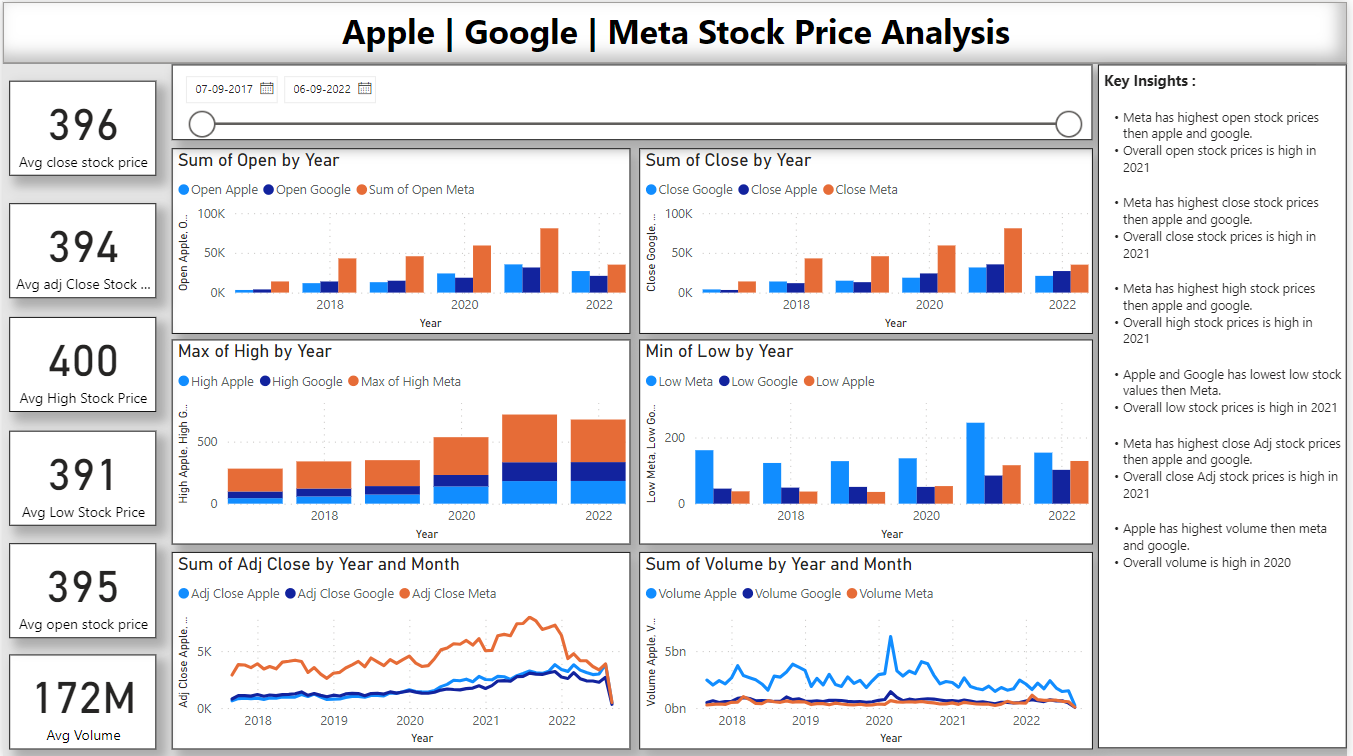

This screenshot's page, from the dashboard's own definition file:
{"tool":"powerbi","page":{"name":"Page 1","canvas":[1280,720],"ordinal":0},"visuals":[{"type":"clusteredColumnChart","title":"Sum of Open by Year","fields":{"Y":["Sum(AAPL.Open Apple)","Sum(GOOG.Open Google)","Sum(META.Open Meta)"],"Category":["GOOG.Date.Variation.Date Hierarchy.Year"]},"box":[161.1,138.9,436.7,176.7],"z":0},{"type":"clusteredColumnChart","title":"Sum of Close by Year","fields":{"Y":["Sum(GOOG.Close Google)","Sum(AAPL.Close Apple)","Sum(META.Close Meta)"],"Category":["GOOG.Date.Variation.Date Hierarchy.Year"]},"box":[605.6,138.9,432.2,176.7],"z":1000},{"type":"columnChart","title":"Max of High by Year","fields":{"Category":["GOOG.Date.Variation.Date Hierarchy.Year"],"Y":["Max(AAPL.High Apple)","Max(GOOG.High Google)","Max(META.High Meta)"]},"box":[161.1,321.1,436.7,195.6],"z":2000},{"type":"clusteredColumnChart","title":"Min of Low by Year","fields":{"Category":["GOOG.Date.Variation.Date Hierarchy.Year"],"Y":["Min(META.Low Meta)","Min(GOOG.Low Google)","Min(AAPL.Low Apple)"]},"box":[605.6,321.1,432.2,195.6],"z":3000},{"type":"lineChart","title":"Sum of Adj Close by Year and Month","fields":{"Y":["Sum(AAPL.Adj Close Apple)","Sum(GOOG.Adj Close Google)","Sum(META.Adj Close Meta)"],"Category":["GOOG.Date.Variation.Date Hierarchy.Year","GOOG.Date.Variation.Date Hierarchy.Month"]},"box":[161.1,523.3,436.7,187.8],"z":4000},{"type":"lineChart","title":"Sum of Volume by Year and Month","fields":{"Category":["GOOG.Date.Variation.Date Hierarchy.Year","GOOG.Date.Variation.Date Hierarchy.Month"],"Y":["Sum(AAPL.Volume Apple)","Sum(GOOG.Volume Google)","Sum(META.Volume Meta)"]},"box":[605.6,523.3,432.2,187.8],"z":5000},{"type":"slicer","fields":{"Values":["GOOG.Date"]},"box":[161.1,60,876.7,72.2],"z":6000},{"type":"card","fields":{"Values":["AAPL.Avg close stock price"]},"box":[5.6,75.6,140,90],"z":7000},{"type":"card","fields":{"Values":["AAPL.Avg Volume"]},"box":[5.6,621.1,140,90],"z":8000},{"type":"card","fields":{"Values":["AAPL.Avg adj Close Stock Price"]},"box":[5.6,191.1,140,90],"z":9000},{"type":"card","fields":{"Values":["AAPL.Avg High Stock Price"]},"box":[5.6,300,140,90],"z":10000},{"type":"card","fields":{"Values":["AAPL.Avg Low Stock Price"]},"box":[5.6,407.8,140,90],"z":11000},{"type":"card","fields":{"Values":["AAPL.Avg open stock price"]},"box":[5.6,515.6,140,90],"z":12000},{"type":"textbox","box":[0,0,1279.8,58.3],"z":13000},{"type":"textbox","box":[1043.3,60,236.7,651.1],"z":14000}]}

Visuals, with their boxes in screenshot pixels (x1, y1, x2, y2), scaled from the page's 1280x720 canvas onto the 1353x756 screenshot:
"Sum of Open by Year" clusteredColumnChart: (left=170, top=146, right=632, bottom=331)
"Sum of Close by Year" clusteredColumnChart: (left=640, top=146, right=1097, bottom=331)
"Max of High by Year" columnChart: (left=170, top=337, right=632, bottom=543)
"Min of Low by Year" clusteredColumnChart: (left=640, top=337, right=1097, bottom=543)
"Sum of Adj Close by Year and Month" lineChart: (left=170, top=549, right=632, bottom=747)
"Sum of Volume by Year and Month" lineChart: (left=640, top=549, right=1097, bottom=747)
slicer - GOOG.Date: (left=170, top=63, right=1097, bottom=139)
card - AAPL.Avg close stock price: (left=6, top=79, right=154, bottom=174)
card - AAPL.Avg Volume: (left=6, top=652, right=154, bottom=747)
card - AAPL.Avg adj Close Stock Price: (left=6, top=201, right=154, bottom=295)
card - AAPL.Avg High Stock Price: (left=6, top=315, right=154, bottom=410)
card - AAPL.Avg Low Stock Price: (left=6, top=428, right=154, bottom=523)
card - AAPL.Avg open stock price: (left=6, top=541, right=154, bottom=636)
textbox: (left=0, top=0, right=1352, bottom=61)
textbox: (left=1103, top=63, right=1352, bottom=747)
